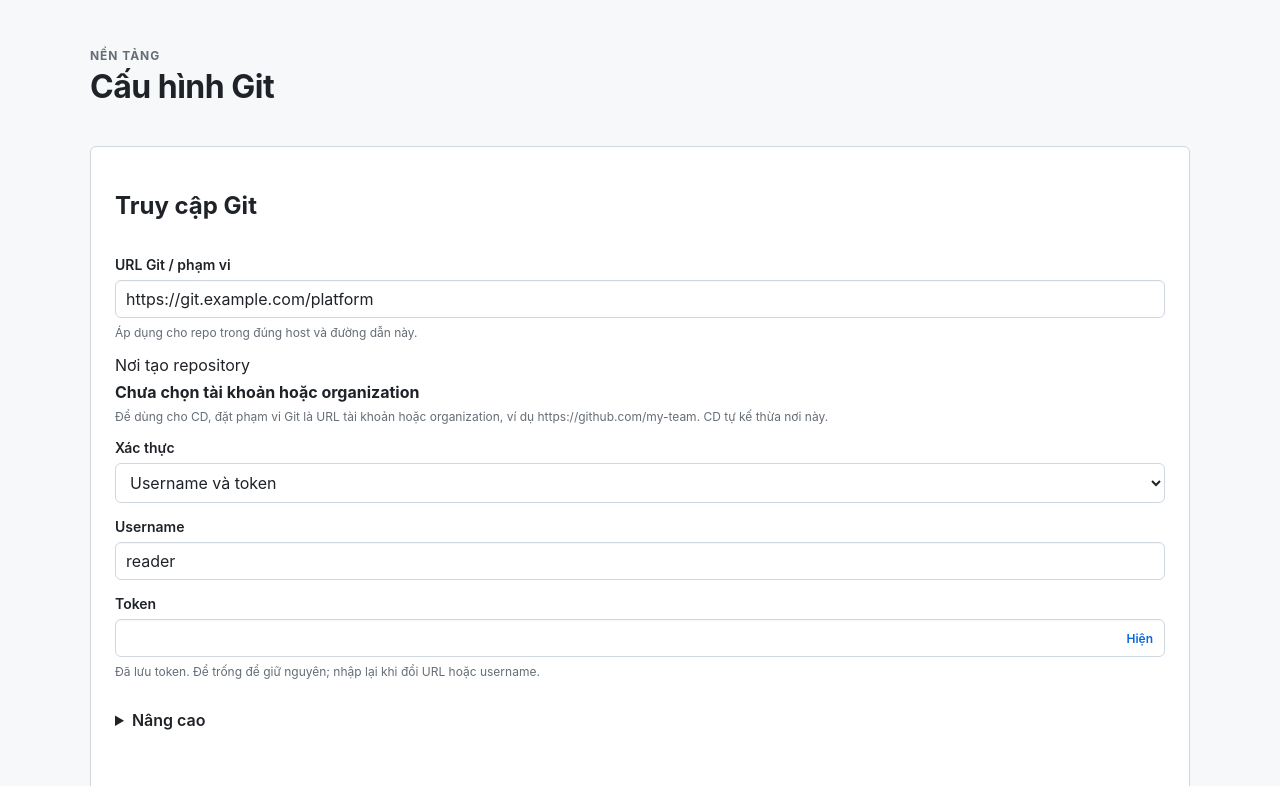
Scenario: keeps the stored token blank and sends versioned updates
The width and height of the screenshot is (1280, 786).
Type "replacement-token" into the password field labelled "Token" at (640, 638), box top-left (115, 619), bottom-right (1165, 657)
(page scrolled)
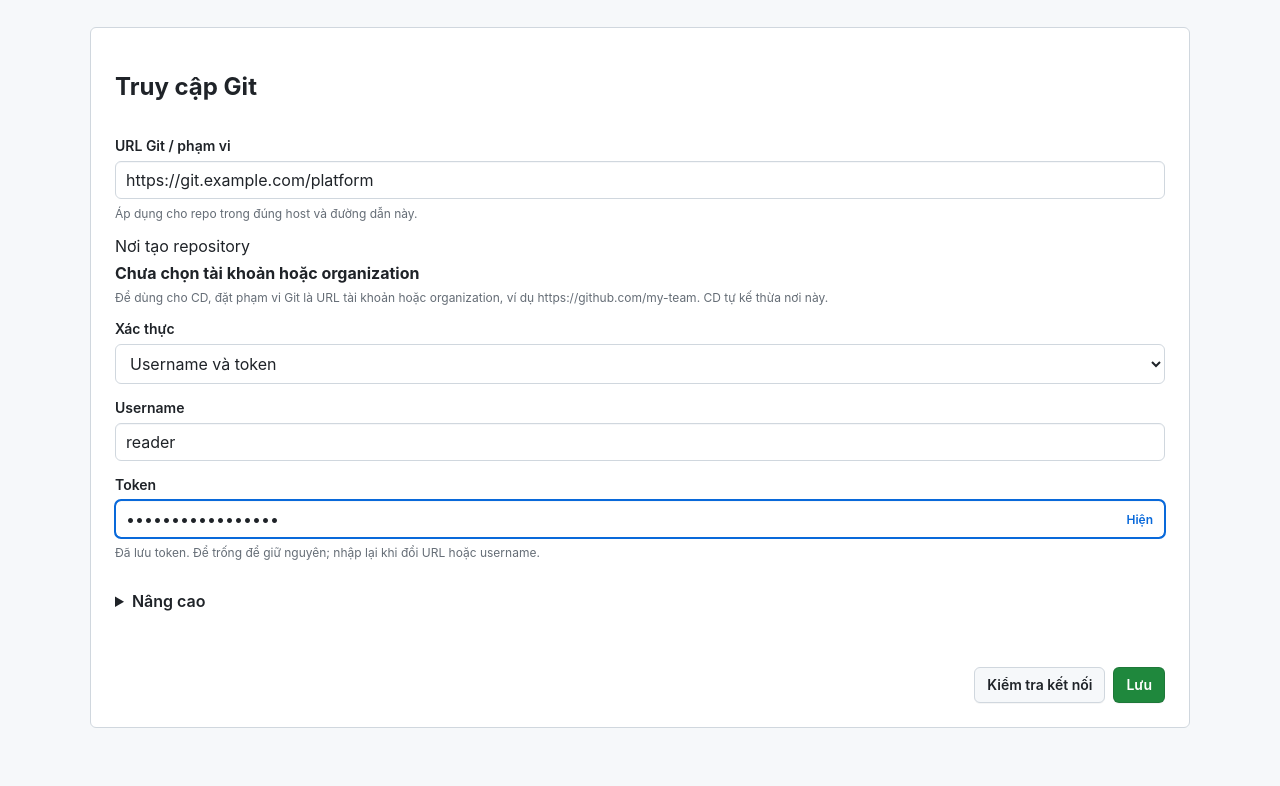
Click the button "Lưu" at (1139, 685), box top-left (1114, 667), bottom-right (1165, 703)
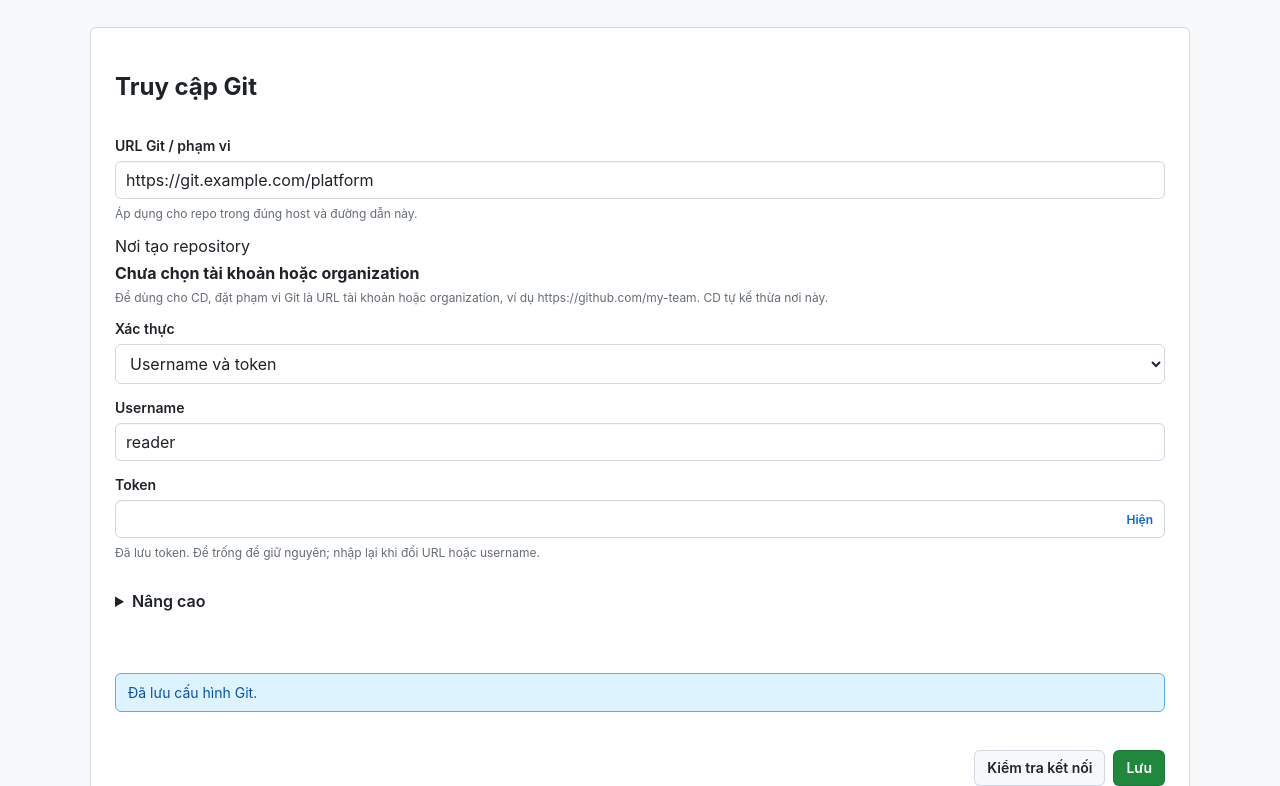
Check: the text "Đã lưu cấu hình Git." is shown, box top-left (115, 673), bottom-right (1165, 712)
Check: the password field labelled "Token" is empty, box top-left (115, 500), bottom-right (1165, 538)
